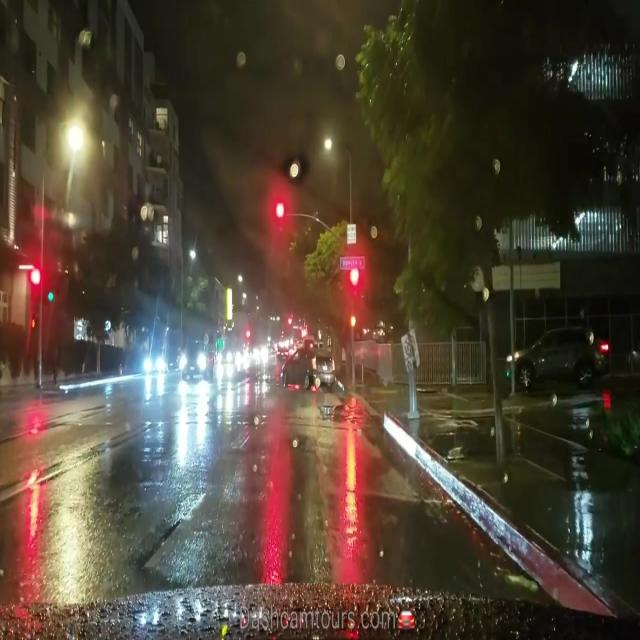Car: (503, 328, 608, 389), (282, 345, 336, 389)
